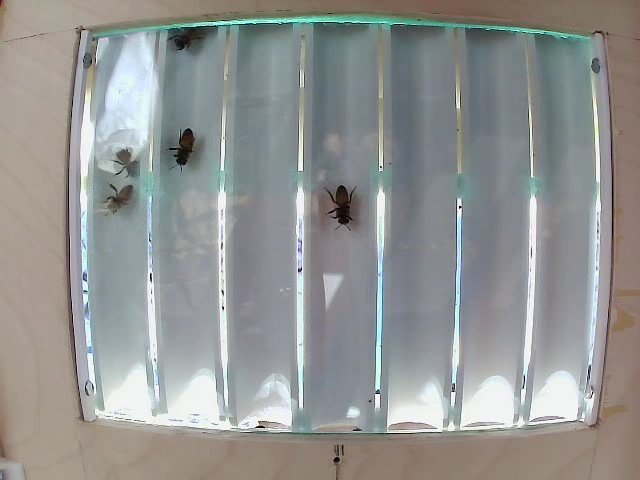bee: (314, 162, 367, 233), (167, 29, 227, 67), (94, 183, 144, 225), (106, 139, 150, 182), (171, 120, 198, 173)
